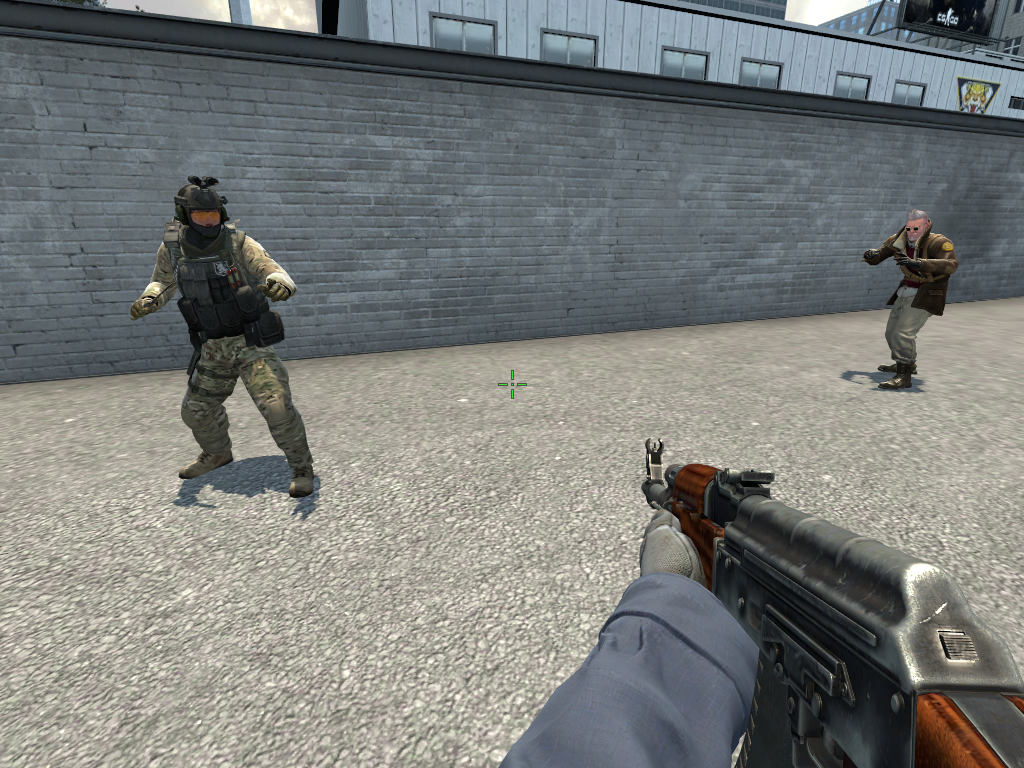ct head: (171, 181, 230, 239)
tr head: (904, 207, 929, 242)
